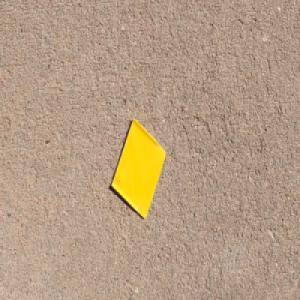PlasticPart: (110, 117, 166, 221)
